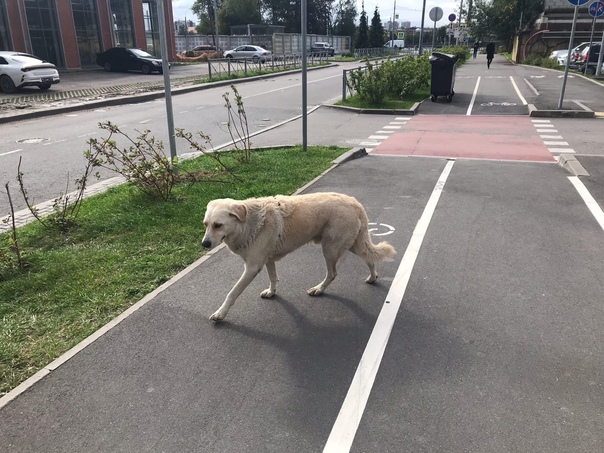kopek: (197, 189, 389, 324)
